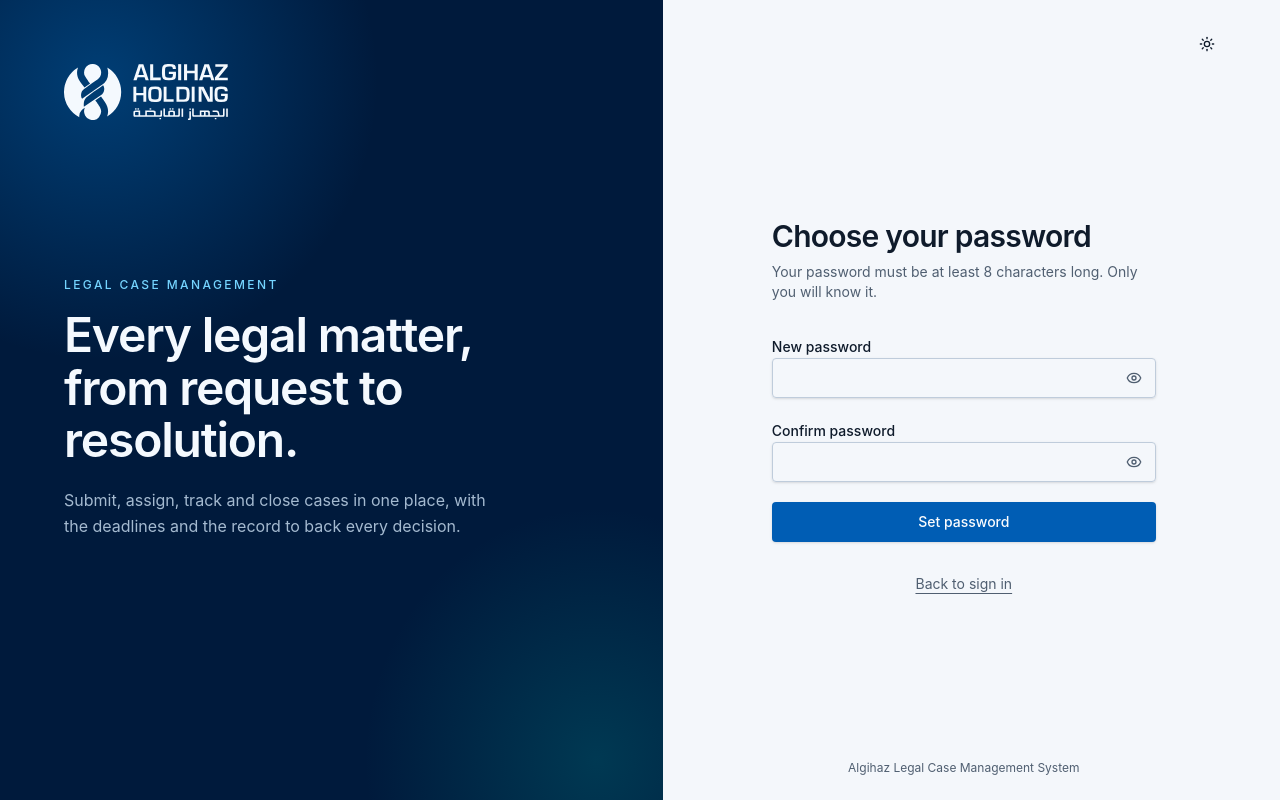
SetPasswordPage › says the link is dead, and offers a new one, when the server refuses it
The width and height of the screenshot is (1280, 800).
Check: the heading "Choose your password" is shown, box [772,218,1091,254]
Type "LongEnough#1" into the password field labelled "New password" at (964, 378), box [772,358,1156,398]
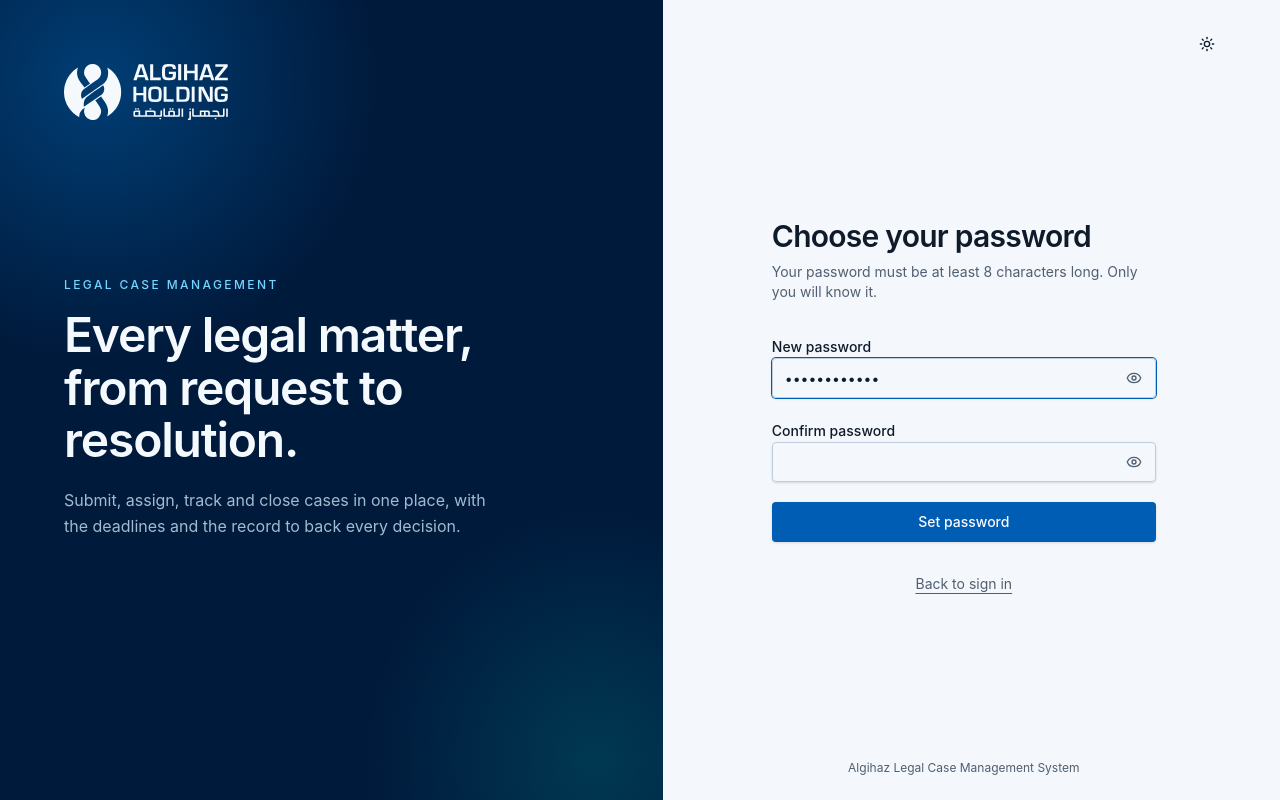
Type "LongEnough#1" into the password field labelled "Confirm password" at (964, 462), box [772,442,1156,482]
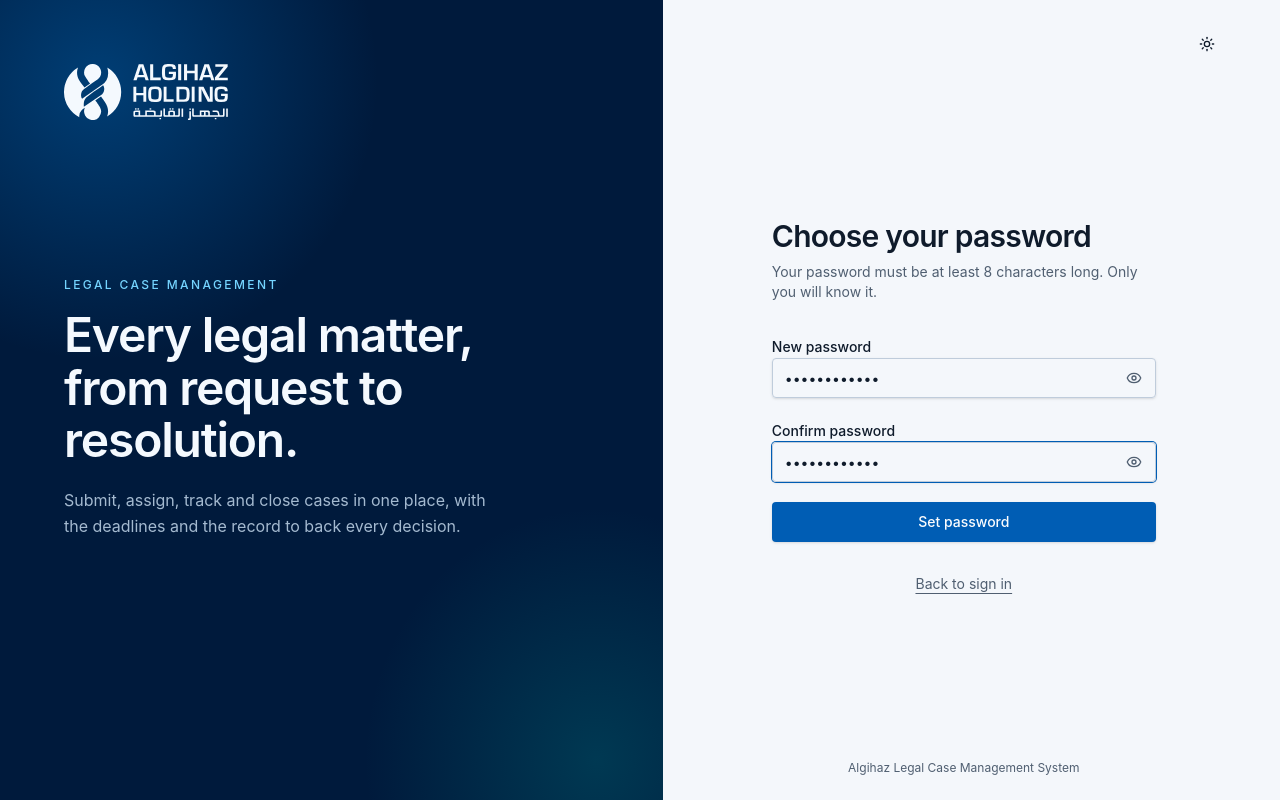
Click the button "Set password" at (964, 522), box [772,502,1156,542]
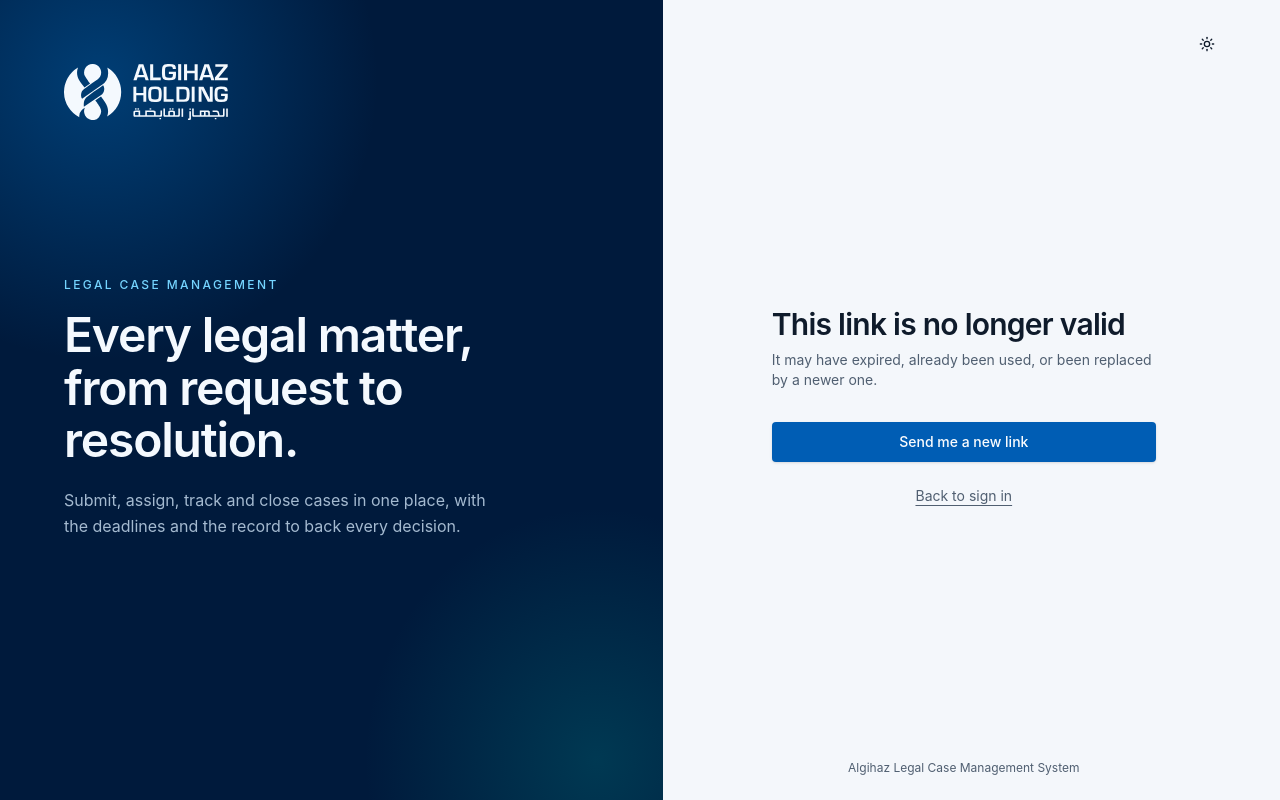
Check: the heading "This link is no longer valid" is shown, box [772,306,1156,342]
Check: the label labelled "New password" is gone
